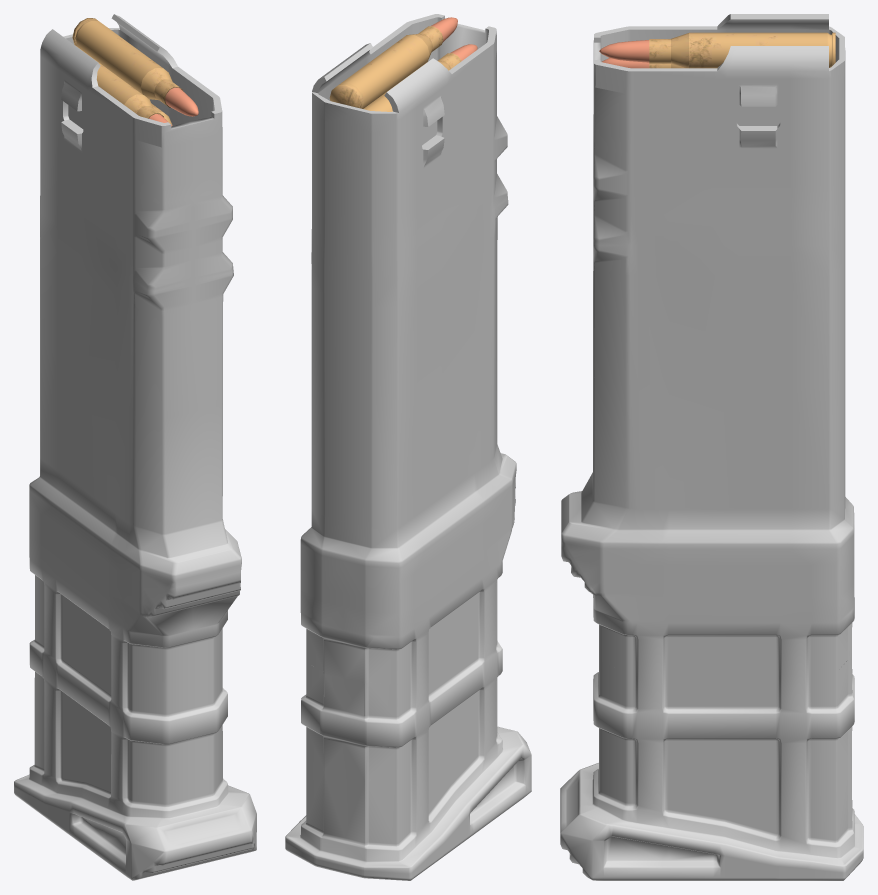
The model's file is Mag_556_30rnds_B.glb.
The picture shows the model from 3 angles, left to right: view 1: azimuth 30°, elevation 25°; view 2: azimuth 150°, elevation 25°; view 3: azimuth 270°, elevation 25°; orthographic projection. The views are drawn at different scales.
Visible parts, largest first — view 1: Mag_556_30rnds_B, Cartridge1.009, Cartridge2.009; view 2: Mag_556_30rnds_B, Cartridge1.009, Cartridge2.009; view 3: Mag_556_30rnds_B, Cartridge1.009.
Boxes of the visible parts, box(x1,y1,x2,y2) form: Mag_556_30rnds_B: box(14, 14, 256, 880); Cartridge1.009: box(72, 18, 198, 116); Cartridge2.009: box(75, 45, 172, 126); Mag_556_30rnds_B: box(285, 14, 531, 880); Cartridge1.009: box(329, 17, 457, 108); Cartridge2.009: box(363, 44, 477, 111); Mag_556_30rnds_B: box(560, 14, 863, 880); Cartridge1.009: box(599, 32, 835, 68).
Size of the model in its own units: 0.0405 by 0.2366 by 0.0794.
Materials: 2 (1 with a texture image).
